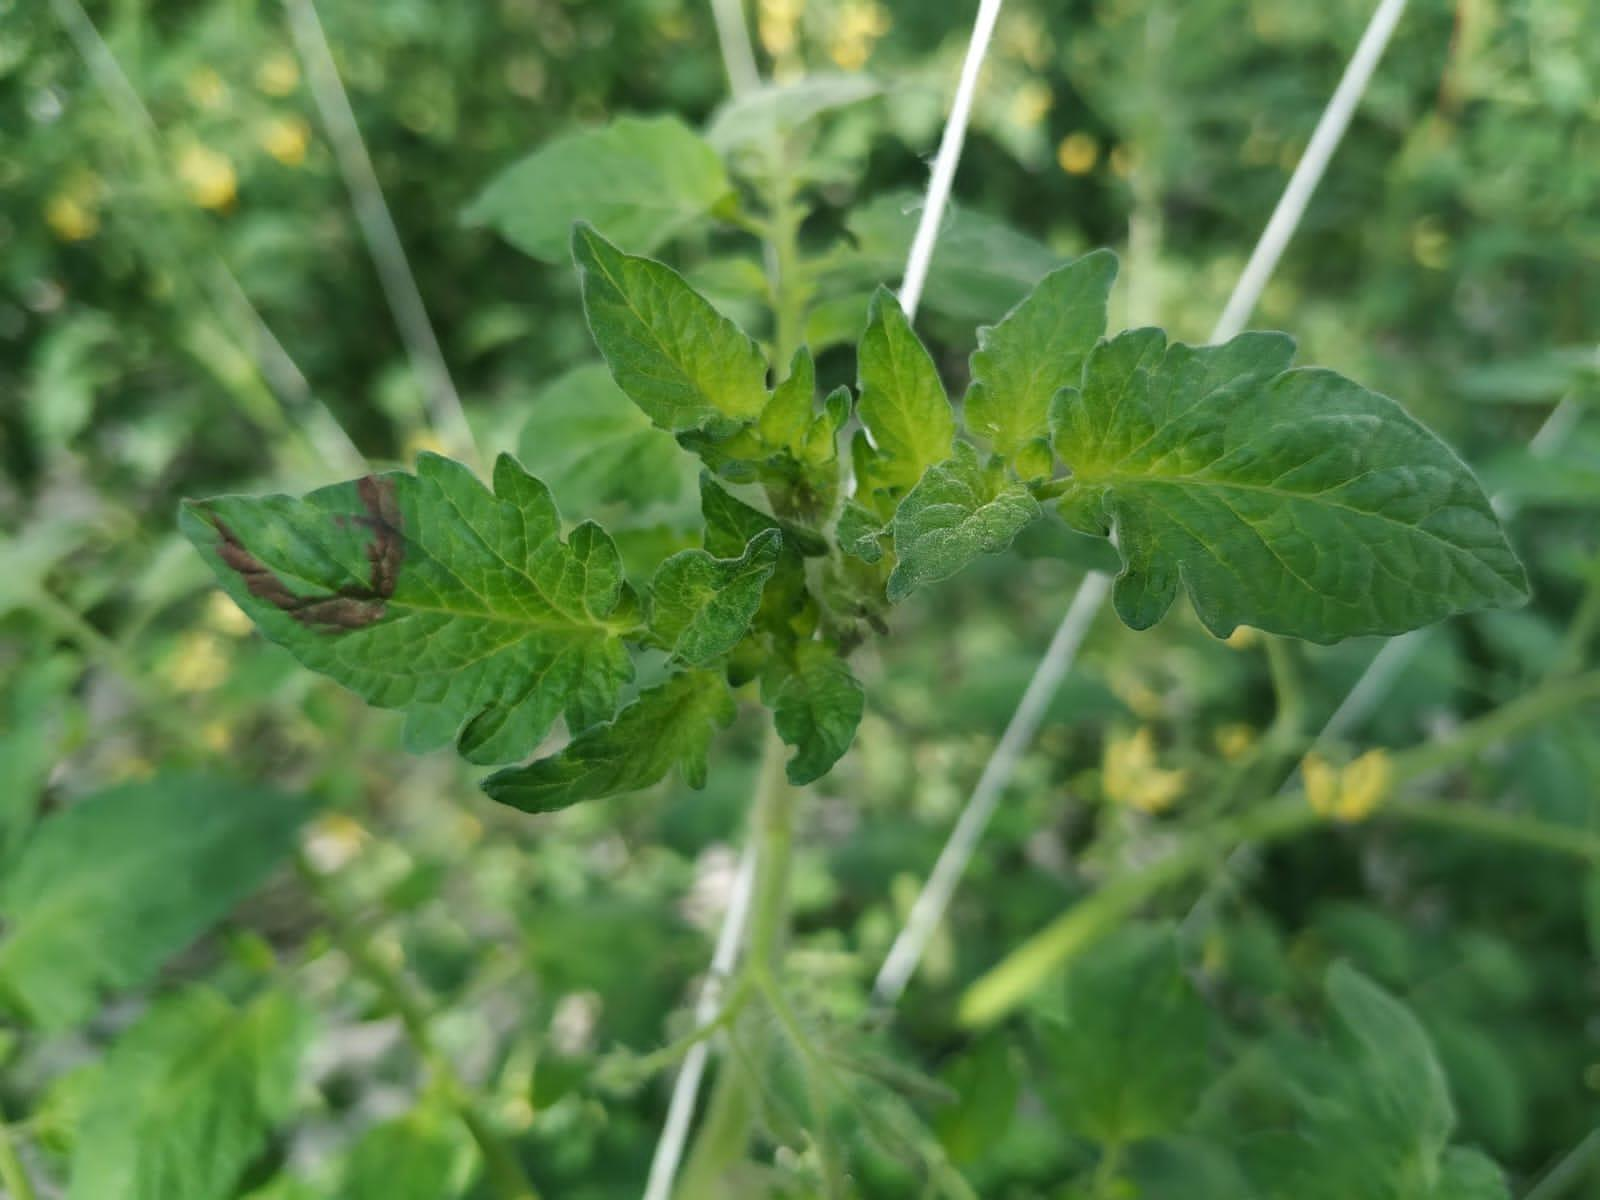Hoja: (572, 224, 769, 429), (857, 287, 954, 482)
Hoja rugoso: (1049, 328, 1528, 644), (181, 453, 644, 765), (484, 669, 734, 813), (963, 250, 1116, 482), (887, 441, 1041, 603), (650, 528, 781, 666)
